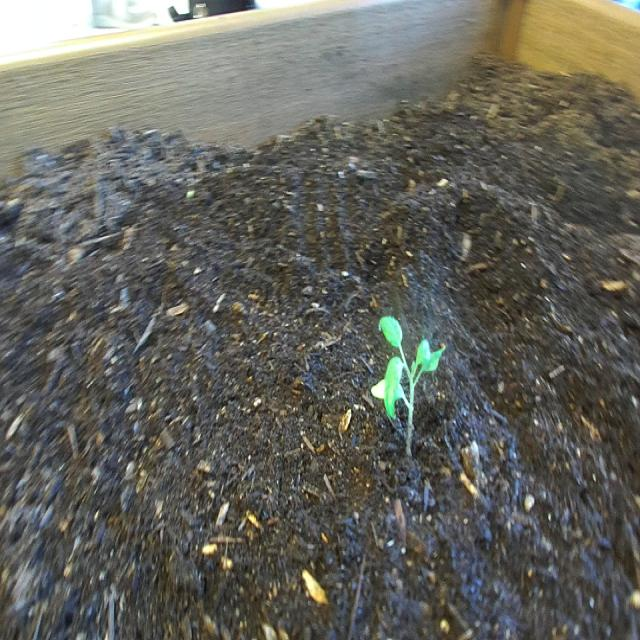Healthy: (364, 295, 458, 483)
